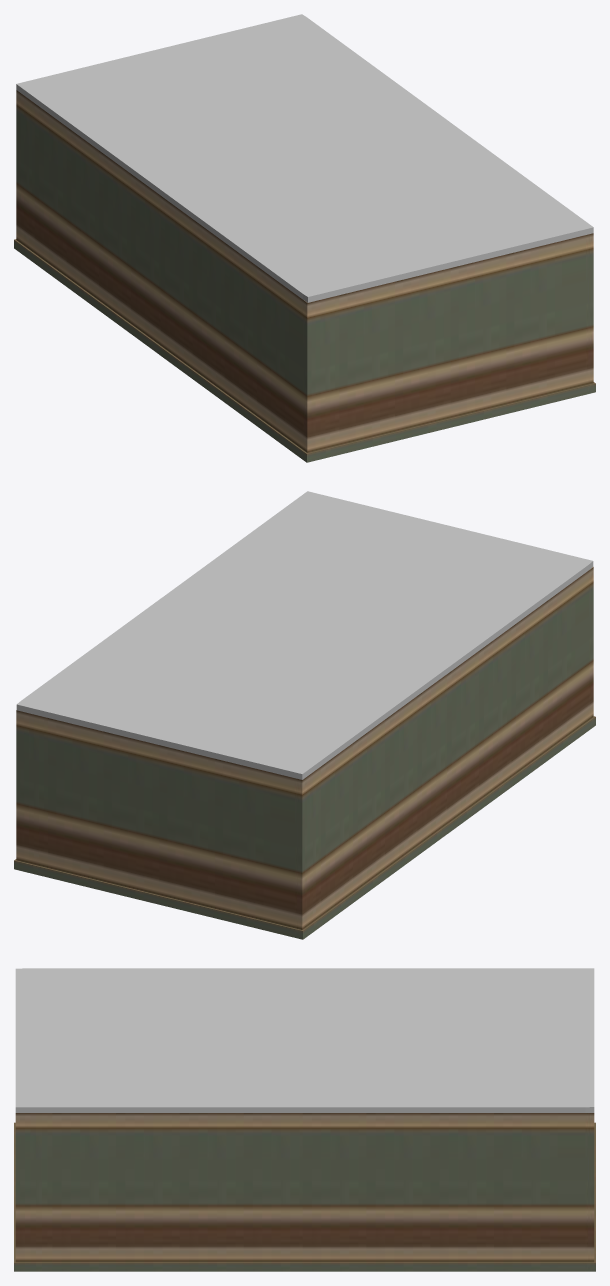
Rendered from websiteRoom.gltf.
3 renders of one model, top to bottom at view 1: azimuth 30°, elevation 25°; view 2: azimuth 150°, elevation 25°; view 3: azimuth 270°, elevation 25°, orthographic.
Parts seen in each view (by area): view 1: Cube.119, Cube.023, Cube.122, Cube.120, Cube.123, Cube.121, Cube.118, Cube.011, Cube.125, Cube.126, Cube.012, Cube.127 (+5 smaller); view 2: Cube.023, Cube.119, Cube.015, Cube.017, Cube.014, Cube.016, Cube.010, Cube.124, Cube.018, Cube.126, Cube.125, Cube.012 (+5 smaller); view 3: Cube.023, Cube.119, Cube.025, Cube.026, Cube.131, Cube.024, Cube.013, Cube.129, Cube.130, Cube.132, Cube.009, Cube.128.
Boxes of the visible parts, x1=… form: Cube.119: x1=160, y1=120, x2=593, y2=302; Cube.023: x1=16, y1=14, x2=448, y2=194; Cube.122: x1=450, y1=254, x2=506, y2=427; Cube.120: x1=339, y1=281, x2=395, y2=454; Cube.123: x1=506, y1=241, x2=562, y2=413; Cube.121: x1=395, y1=268, x2=451, y2=440; Cube.118: x1=287, y1=290, x2=340, y2=462; Cube.011: x1=33, y1=103, x2=66, y2=285; Cube.125: x1=223, y1=243, x2=256, y2=424; Cube.126: x1=191, y1=219, x2=224, y2=401; Cube.012: x1=65, y1=127, x2=98, y2=308; Cube.127: x1=159, y1=196, x2=192, y2=377; Cube.023: x1=16, y1=597, x2=448, y2=779; Cube.119: x1=161, y1=491, x2=593, y2=673; Cube.015: x1=103, y1=731, x2=159, y2=904; Cube.017: x1=214, y1=758, x2=270, y2=931; Cube.014: x1=47, y1=718, x2=103, y2=890; Cube.016: x1=158, y1=745, x2=214, y2=917; Cube.010: x1=269, y1=767, x2=322, y2=939; Cube.124: x1=543, y1=580, x2=576, y2=762; Cube.018: x1=385, y1=696, x2=418, y2=878; Cube.126: x1=479, y1=627, x2=512, y2=809; Cube.125: x1=511, y1=604, x2=544, y2=785; Cube.012: x1=353, y1=720, x2=386, y2=901; Cube.023: x1=302, y1=968, x2=594, y2=1112; Cube.119: x1=15, y1=968, x2=307, y2=1112; Cube.025: x1=366, y1=1113, x2=430, y2=1271; Cube.026: x1=302, y1=1113, x2=366, y2=1271; Cube.131: x1=179, y1=1113, x2=243, y2=1271; Cube.024: x1=494, y1=1113, x2=557, y2=1271; Cube.013: x1=430, y1=1113, x2=493, y2=1271; Cube.129: x1=52, y1=1113, x2=115, y2=1271; Cube.130: x1=116, y1=1113, x2=179, y2=1271; Cube.132: x1=243, y1=1113, x2=302, y2=1271; Cube.009: x1=557, y1=1113, x2=595, y2=1271; Cube.128: x1=14, y1=1113, x2=52, y2=1271.
Size of the model in its own units: 15.6 by 8.49 by 27.38.
